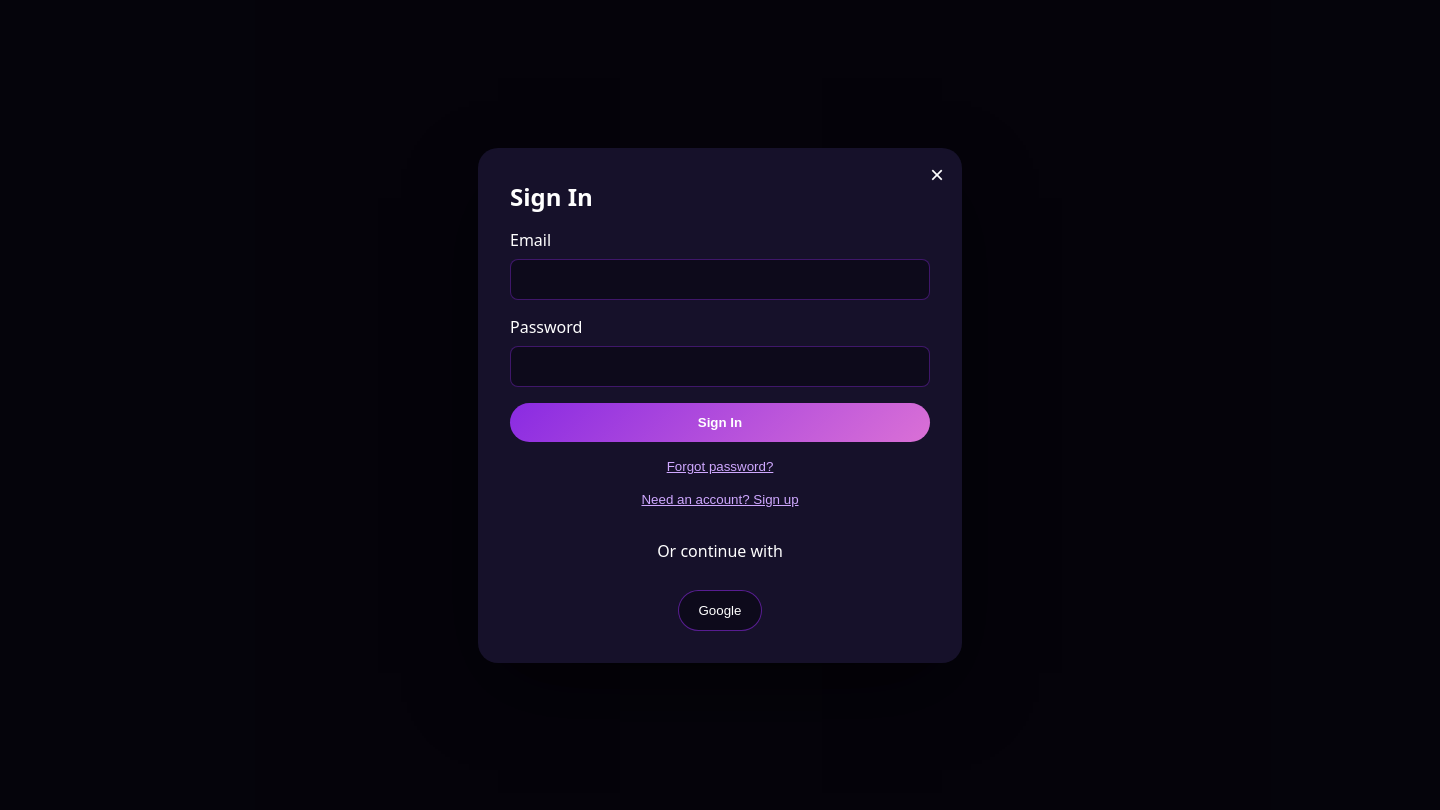
AuthModal (unit) › switches to forgot password mode and hides password field
Click the button "Forgot password?" at [720, 466], box [510,458,930,474]
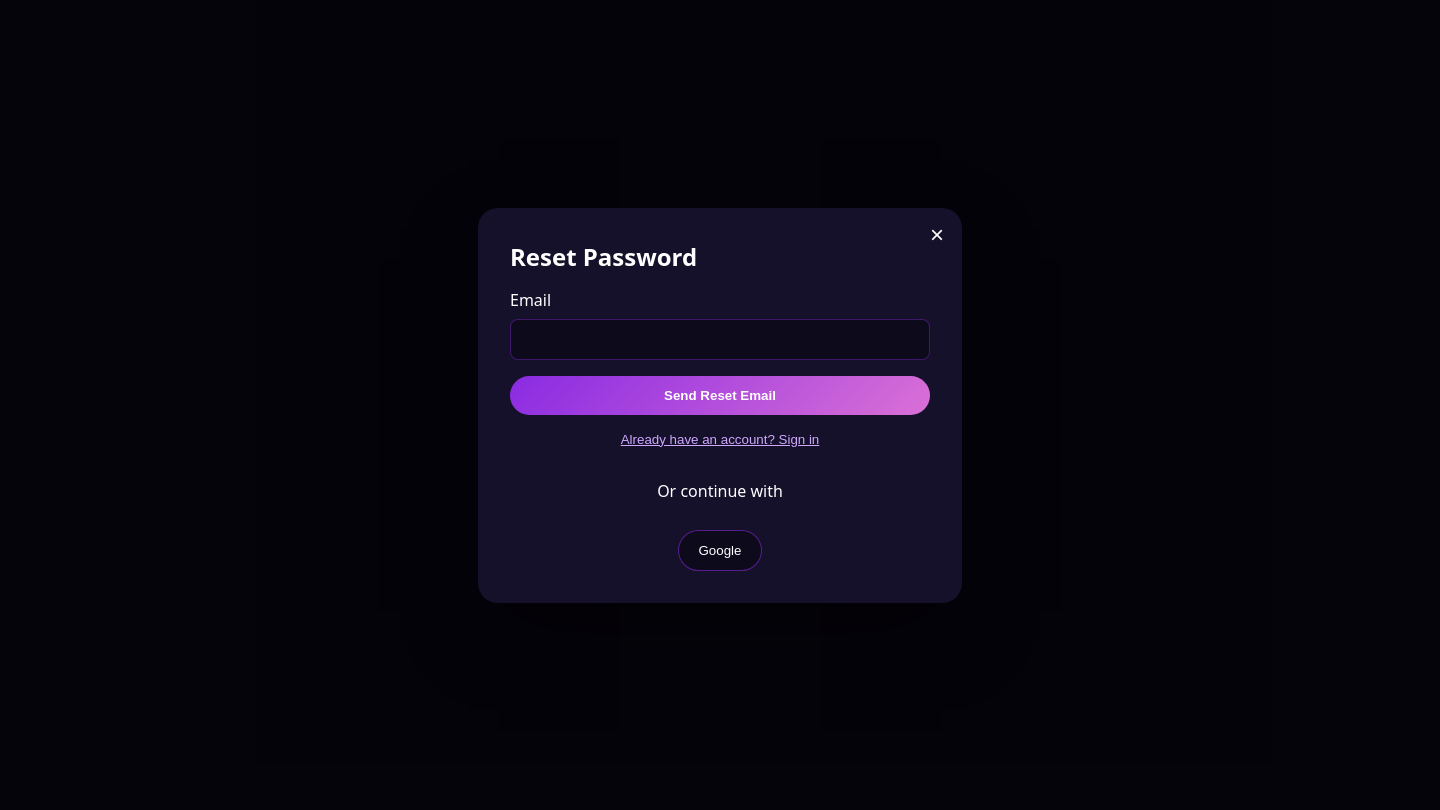
Now the heading "Reset Password" is shown, box [510,240,697,272]
Now the button "Send Reset Email" is shown, box [510,376,930,414]
